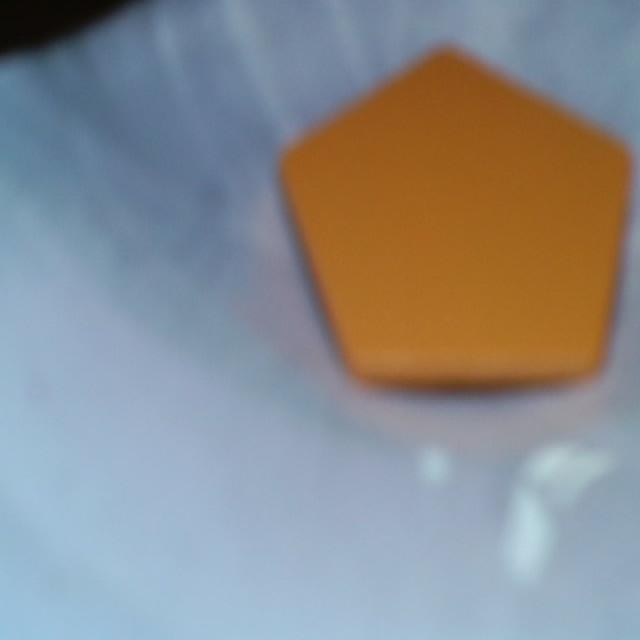pentagon: (282, 49, 631, 385)
